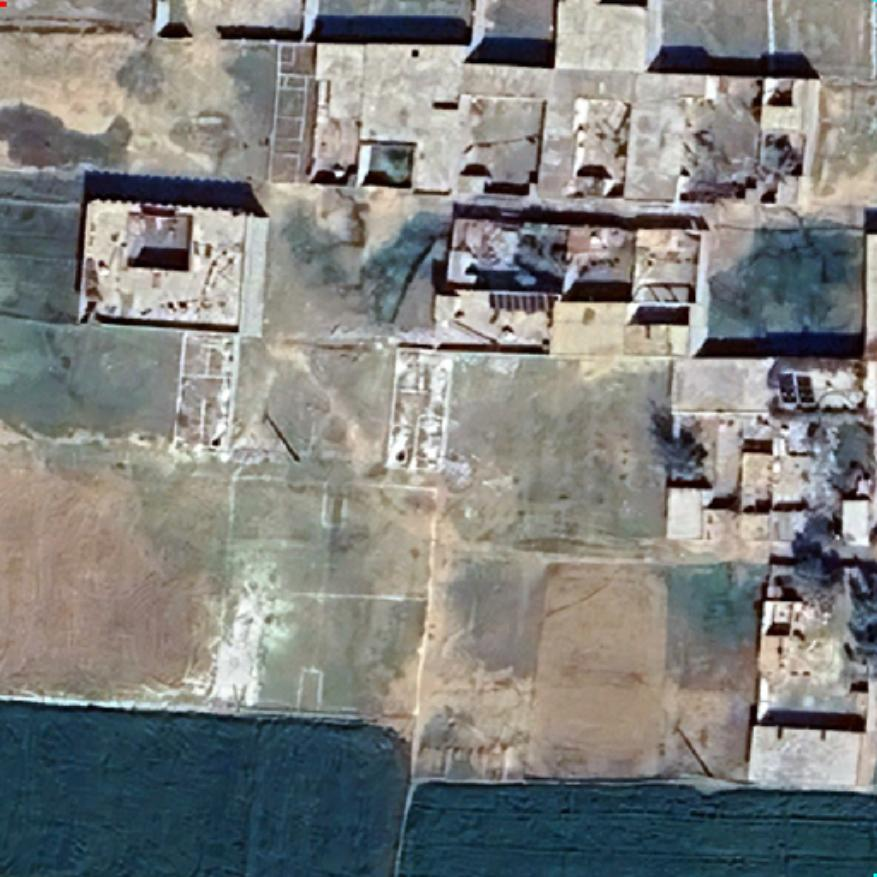Solarpanel: (485, 290, 559, 316), (774, 371, 820, 405)
